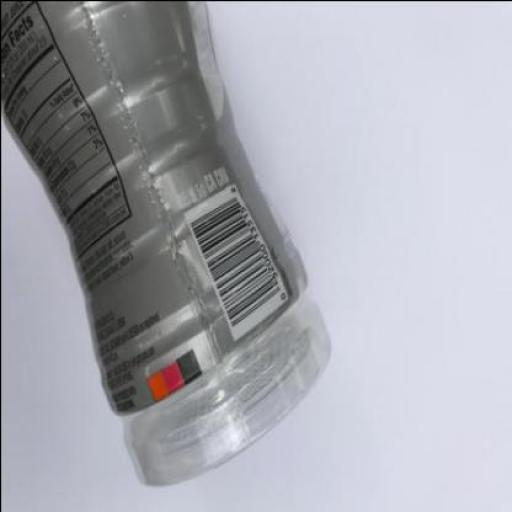plastic: (2, 1, 332, 489), (1, 1, 307, 416)
